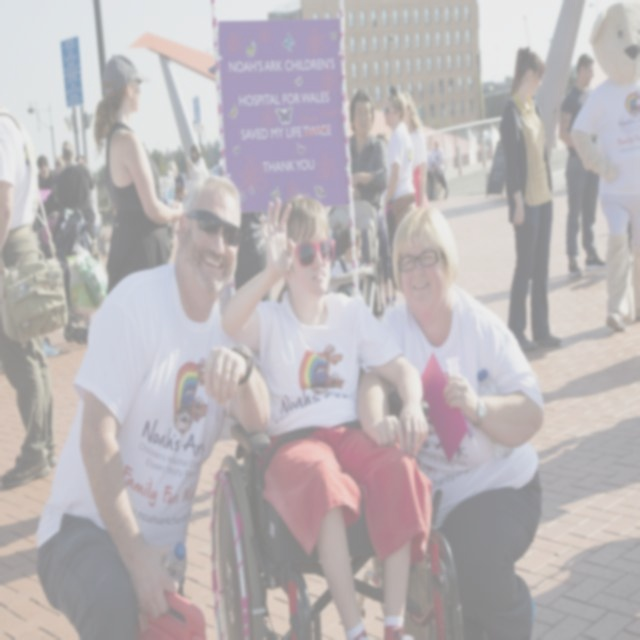pessoa: (32, 168, 274, 639), (219, 190, 431, 640), (350, 204, 549, 639), (0, 86, 70, 494), (92, 52, 185, 300), (571, 1, 639, 333), (496, 43, 562, 354), (558, 52, 606, 278), (346, 87, 390, 310), (382, 84, 418, 234), (56, 142, 95, 252), (376, 130, 399, 310), (328, 224, 378, 292), (402, 90, 429, 208), (32, 154, 57, 232), (428, 137, 449, 201), (164, 160, 188, 210), (88, 169, 102, 247), (187, 142, 210, 187), (50, 156, 66, 212), (423, 137, 436, 205), (54, 154, 87, 176), (43, 336, 64, 358)
